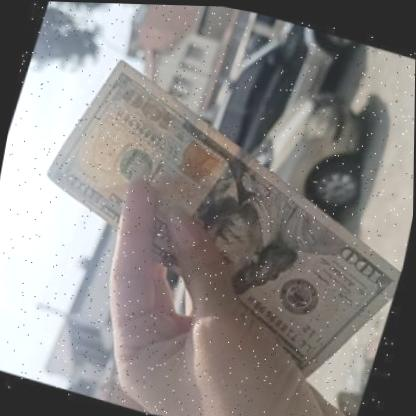dollar_front: (2, 37, 416, 394)
